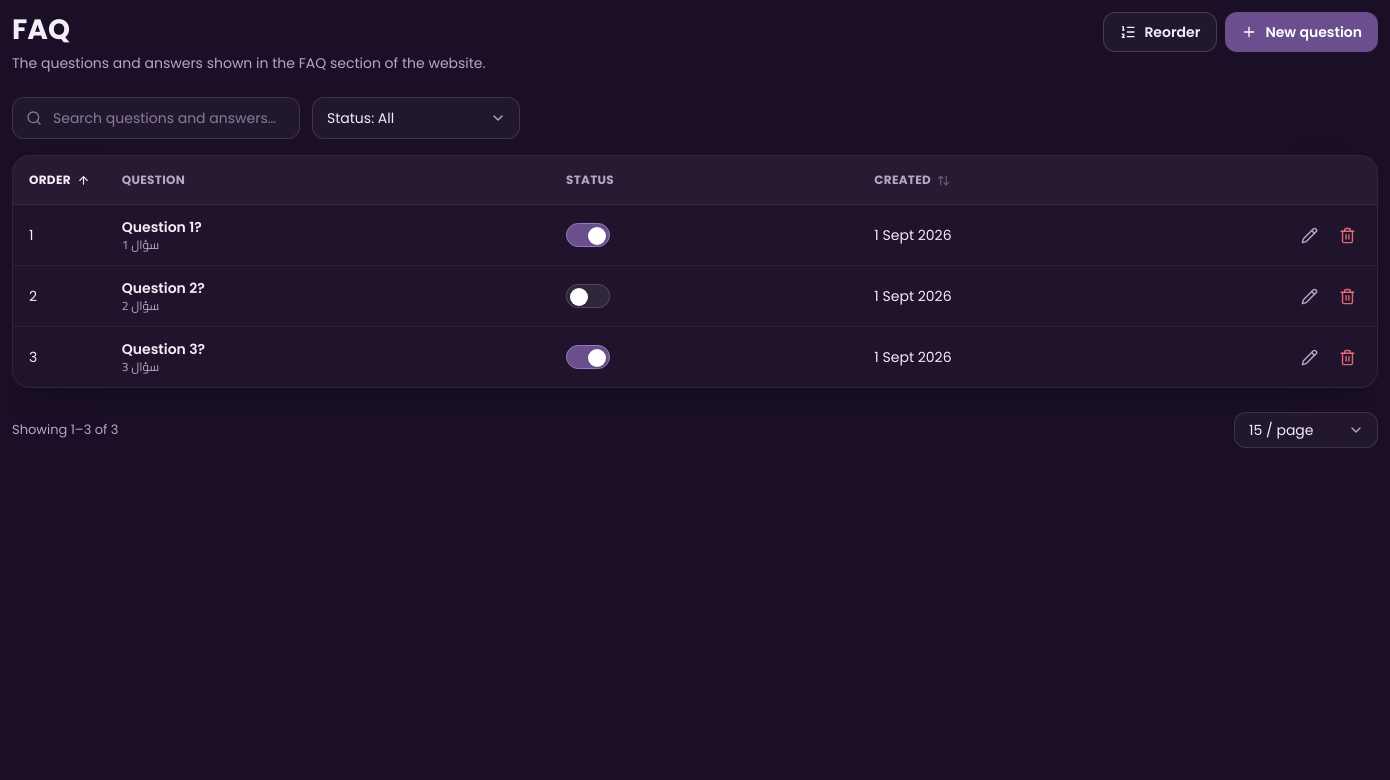
Test: FaqList › active toggle › shows an error toast when the update fails
The width and height of the screenshot is (1390, 780).
Expected: the text "Question 1?" is shown, [122,217,202,237]
Click the switch named "Active: Question 1?" at (588, 235), box [566,223,610,247]
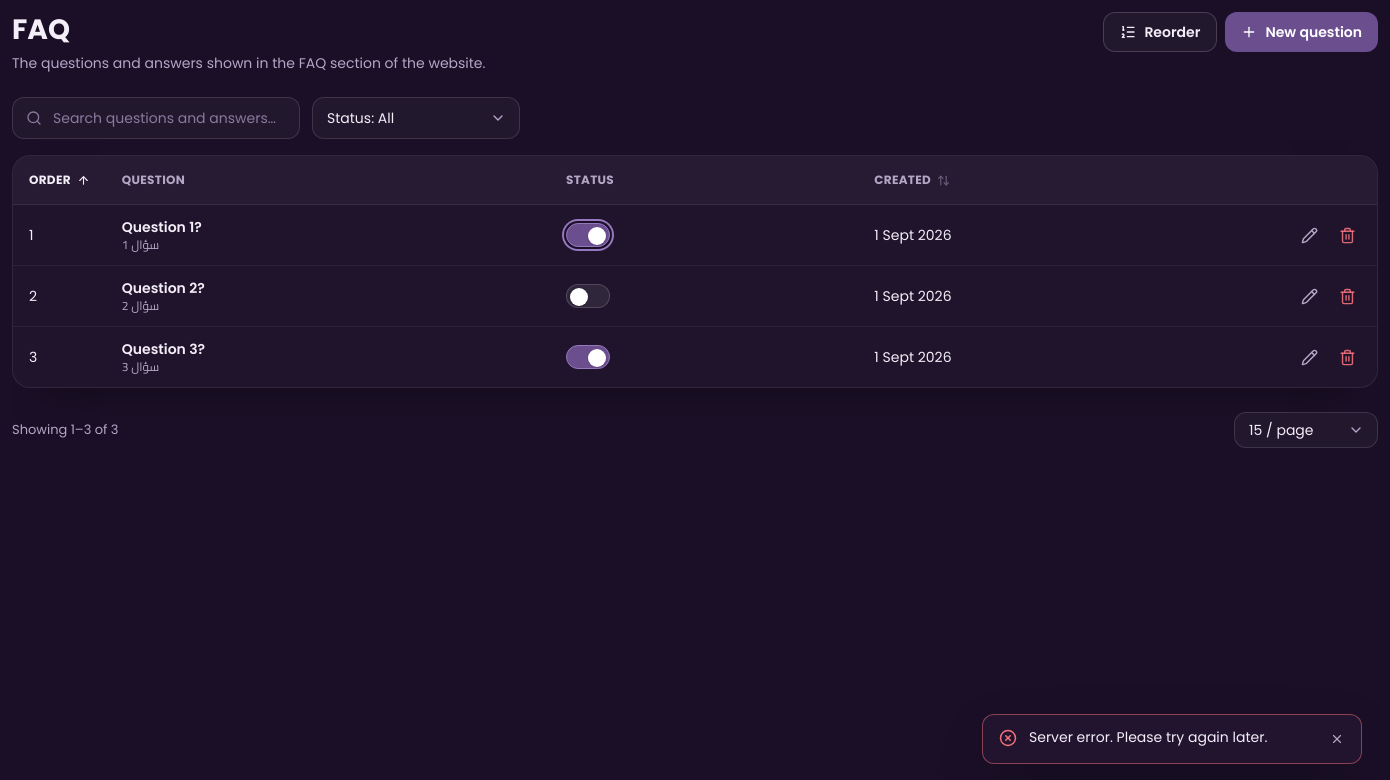
Expected: the text "Server error. Please try again later." is shown, [1029,727,1267,747]
